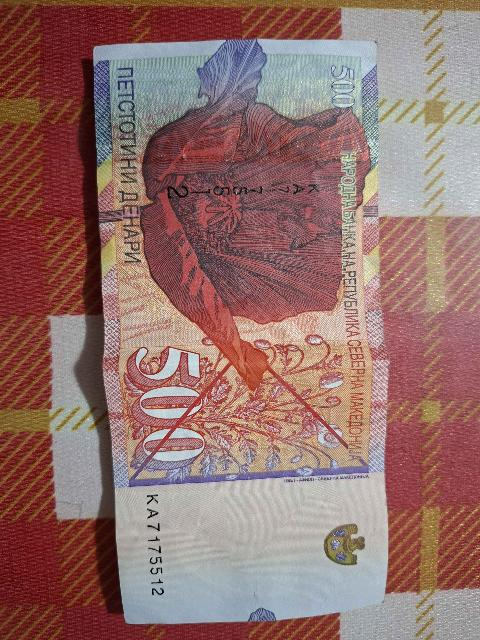500_note: (95, 41, 387, 622)
